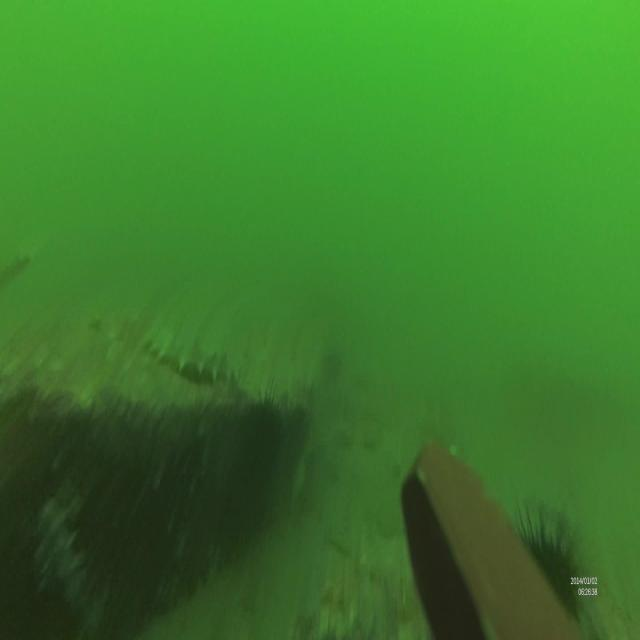echinus: (509, 497, 585, 621)
holothurian: (40, 492, 107, 639), (142, 329, 244, 386)
